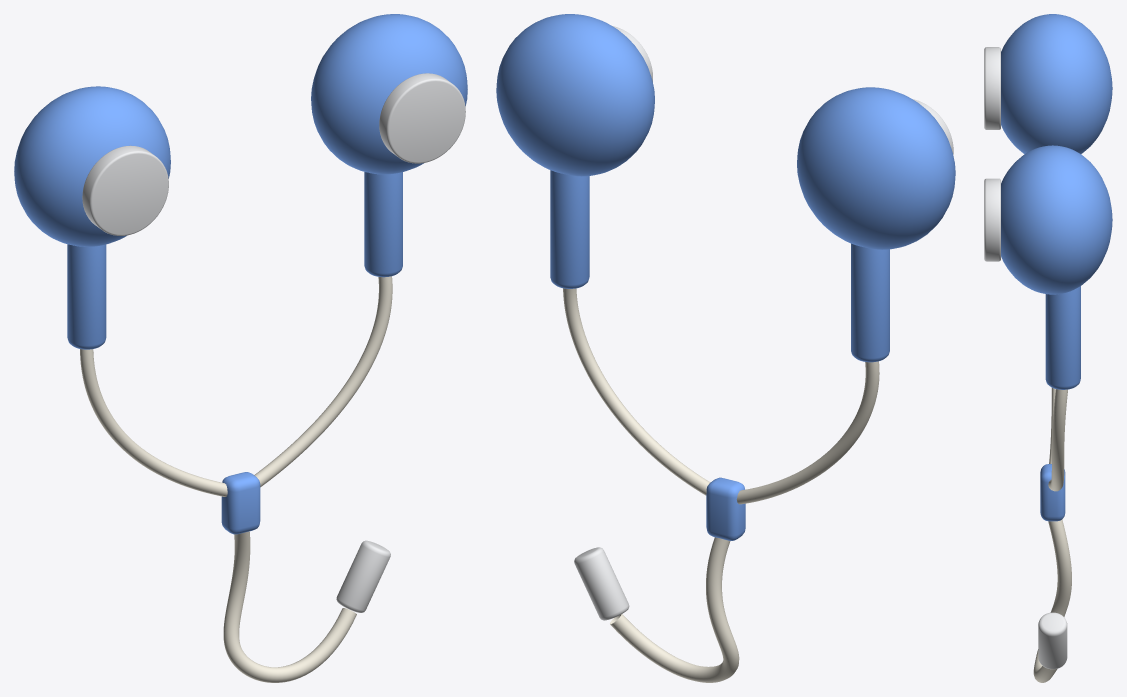
Rendered from life-earphones.glb.
The picture shows the model from 3 angles, left to right: view 1: azimuth 30°, elevation 25°; view 2: azimuth 150°, elevation 25°; view 3: azimuth 270°, elevation 25°; orthographic projection. The views are drawn at different scales.
Parts seen in each view (by area): view 1: Bud.001, Bud, Grill.001, Grill, Cable, Stem, Stem.001, Wire.001, Wire, Jack, Split; view 2: Bud, Bud.001, Stem.001, Cable, Stem, Wire.001, Wire, Jack, Split; view 3: Bud.001, Bud, Stem.001, Cable, Jack, Grill.001, Grill, Wire.001, Split, Wire.
Part boxes in pixels (x1,y1,x2,y2): Bud.001: (311,14,467,174); Bud: (14,86,170,246); Grill.001: (379,73,465,163); Grill: (82,145,168,235); Cable: (223,531,356,682); Stem: (67,244,106,349); Stem.001: (364,172,402,277); Wire.001: (254,276,392,487); Wire: (80,349,227,496); Jack: (336,540,390,612); Split: (221,472,260,534); Bud: (797,87,955,249); Bud.001: (496,14,654,176); Stem.001: (550,170,589,288); Cable: (610,537,739,682); Stem: (851,243,889,362); Wire.001: (563,288,710,495); Wire: (736,361,879,504); Jack: (574,547,629,620); Split: (706,477,745,540); Bud.001: (1001,145,1112,294); Bud: (1001,14,1112,154); Stem.001: (1045,286,1080,389); Cable: (1033,519,1071,682); Jack: (1038,612,1067,669); Grill.001: (984,178,1000,261); Grill: (984,47,1000,129); Wire.001: (1048,389,1067,491); Split: (1040,464,1065,521); Wire: (1049,388,1055,463).
Size of the model in its own units: 2.22 by 3.04 by 0.618.
